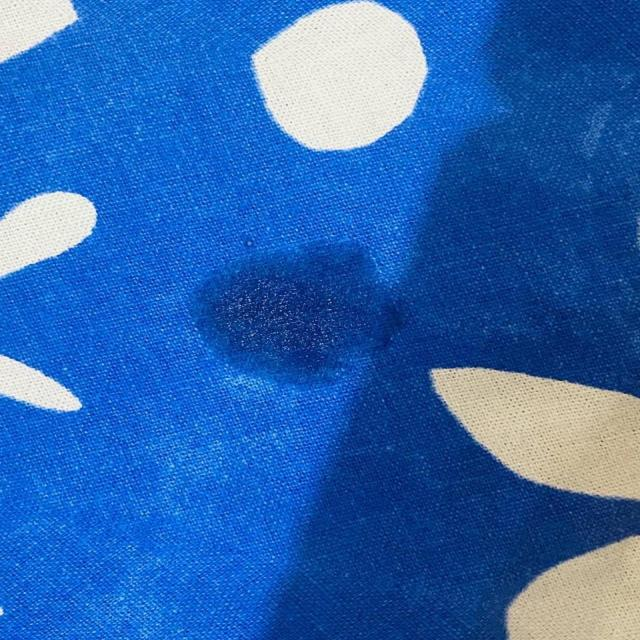stain: (188, 232, 405, 388)
